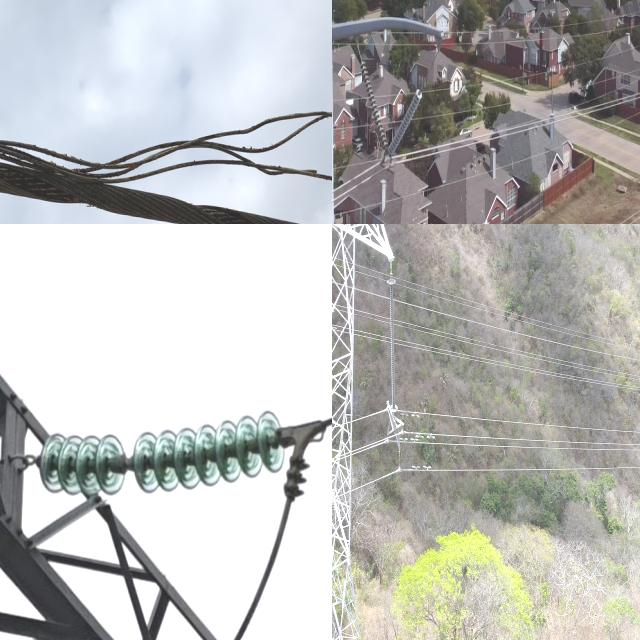杆塔: (332, 224, 376, 640)
正常电缆: (408, 304, 640, 366), (410, 341, 640, 390), (413, 406, 640, 436), (404, 457, 640, 482), (427, 437, 640, 456)
正常绝缘子: (18, 398, 300, 502), (377, 68, 433, 176), (351, 45, 396, 172), (384, 271, 403, 443)
电缆破损: (0, 85, 332, 215)
绝缘子破损: (118, 453, 131, 474)
